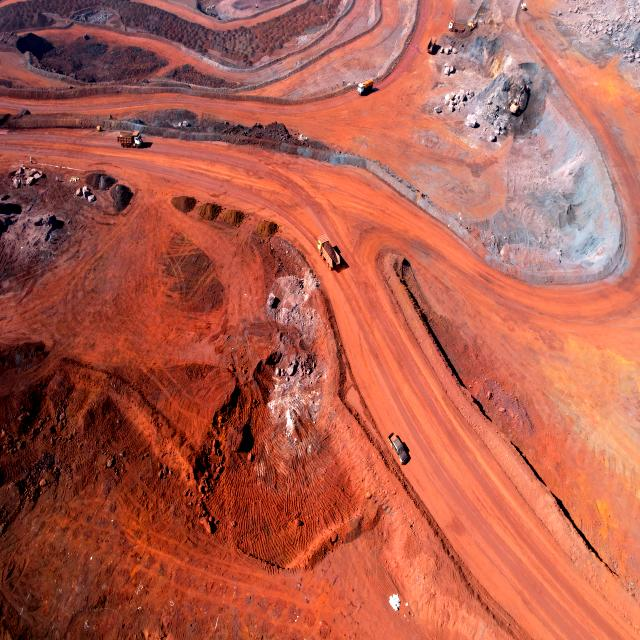Dumper truck: (316, 234, 341, 268), (118, 131, 142, 147), (448, 20, 465, 34), (428, 36, 436, 50)
Excavator: (467, 15, 482, 31)
car: (388, 433, 409, 464), (522, 2, 526, 12)
person: (30, 157, 33, 164), (56, 176, 59, 183)
